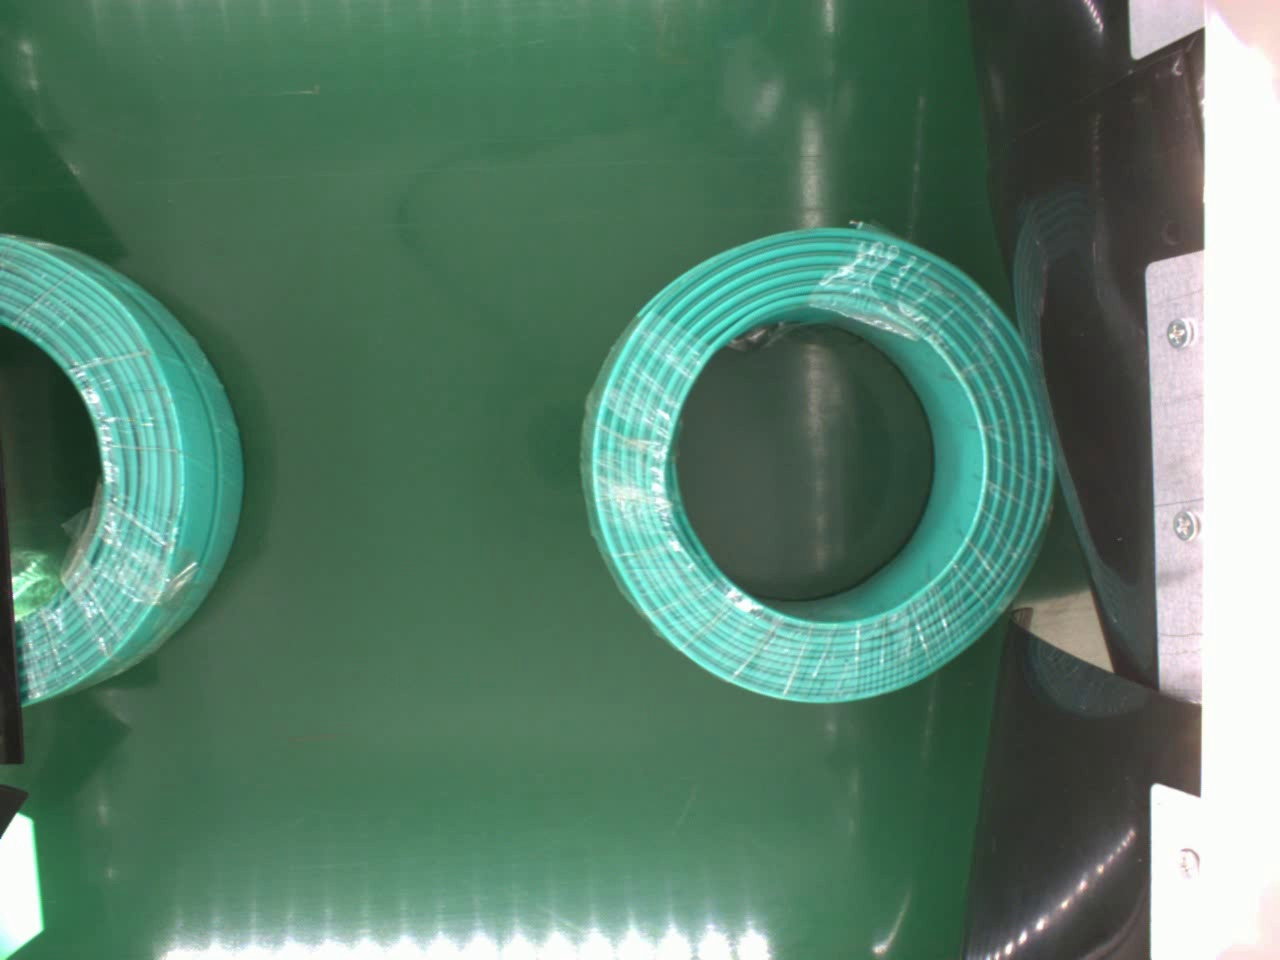green: (581, 217, 1072, 711), (0, 232, 245, 710)
